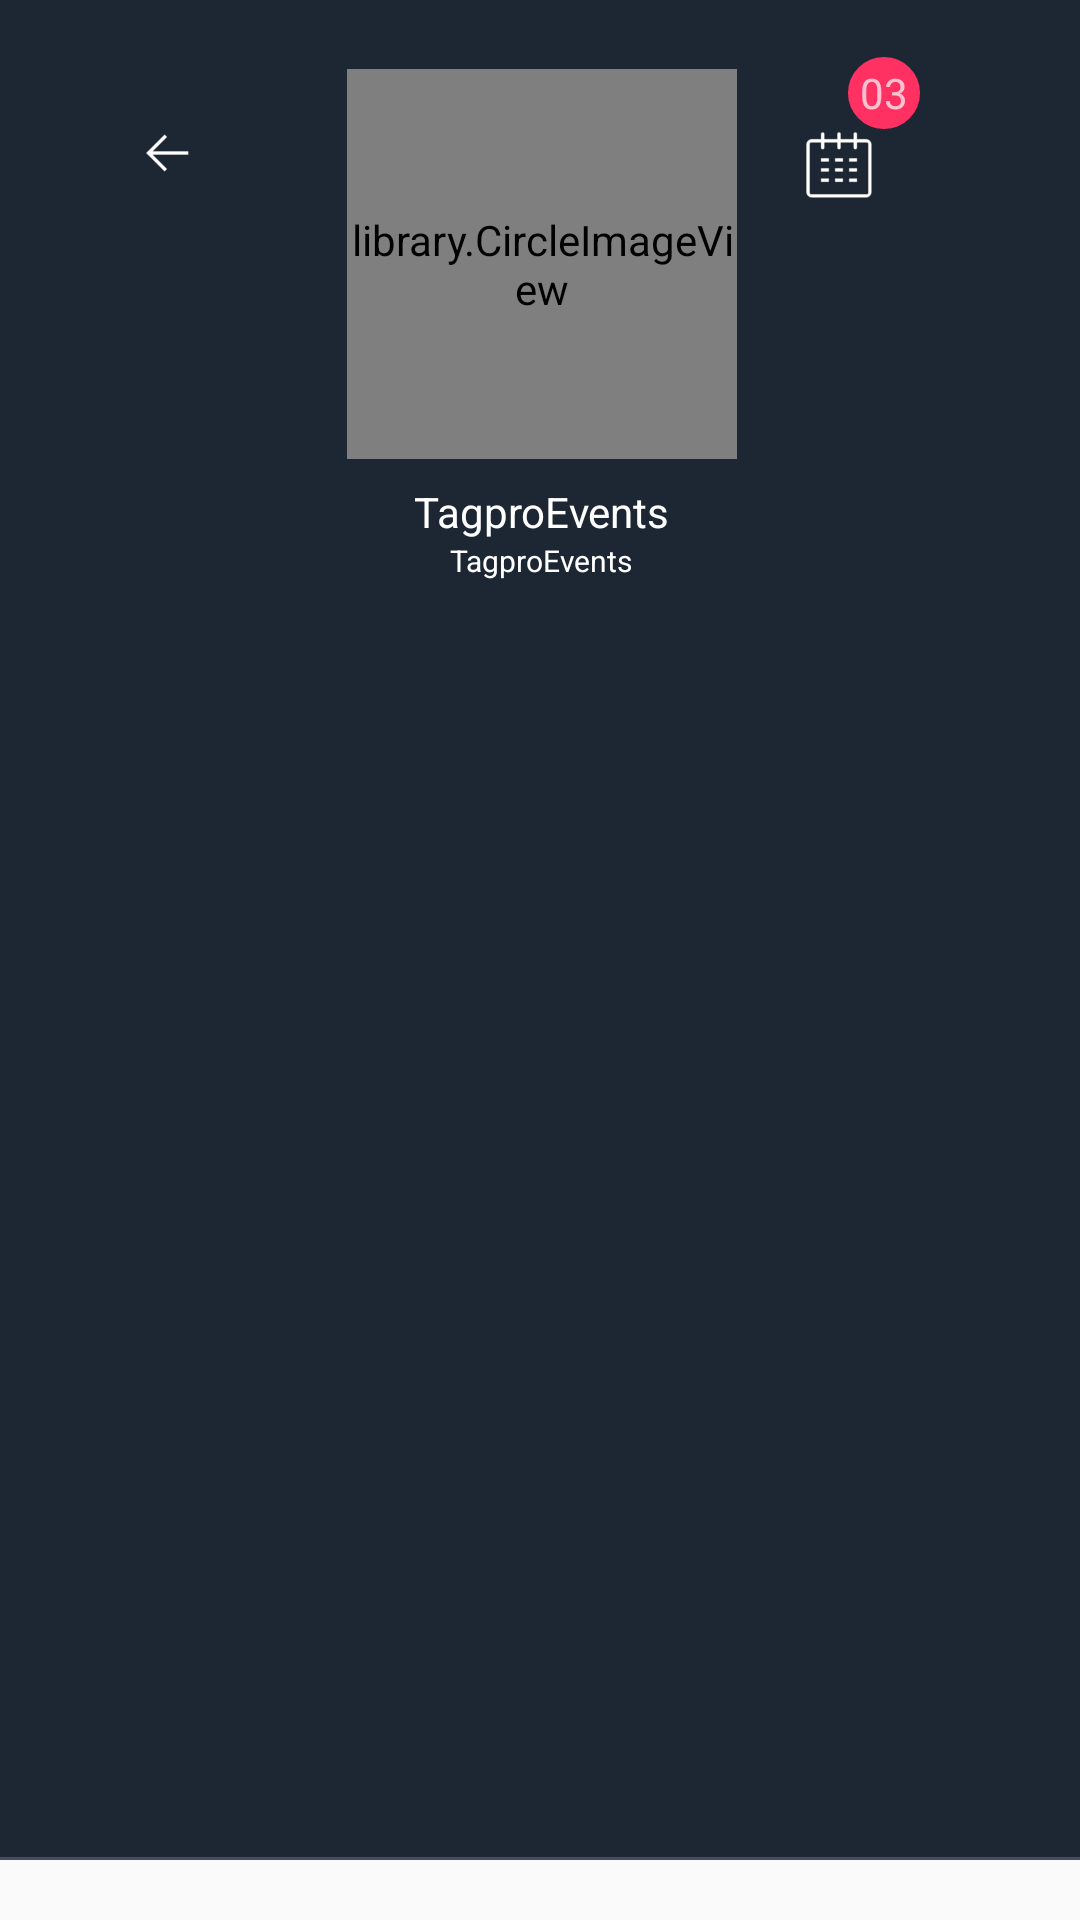

Icon click points for this 1080px x 1920px phone screenshot, format (x,y):
arrow: (167,153)
calender: (839,165)
